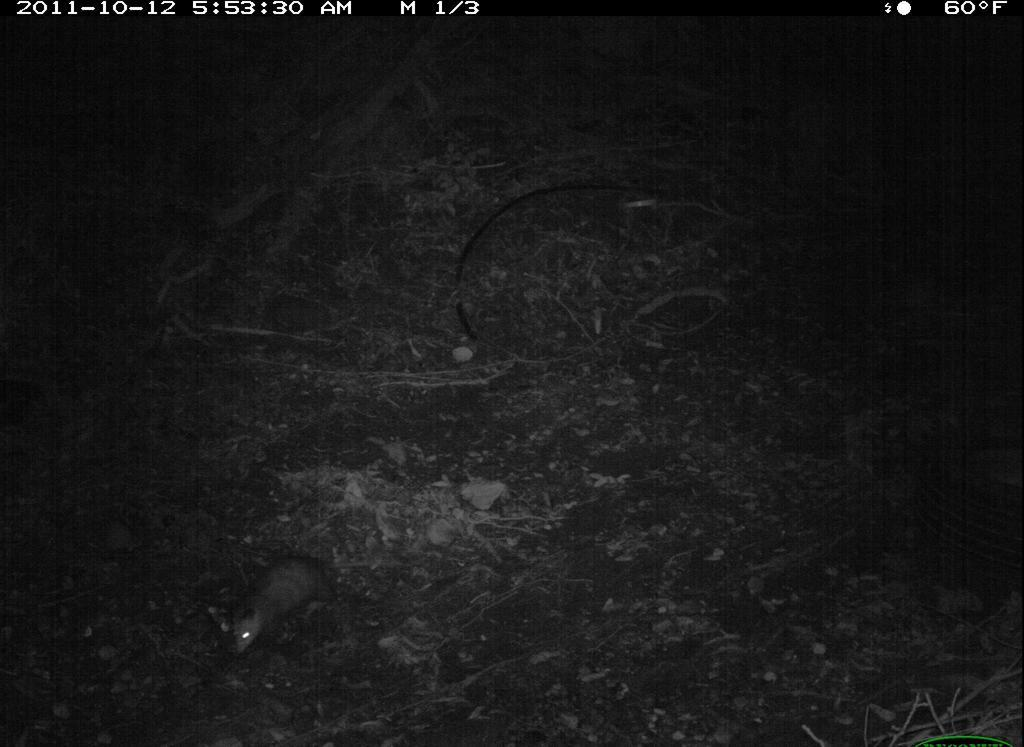opossum: (213, 550, 413, 658)
